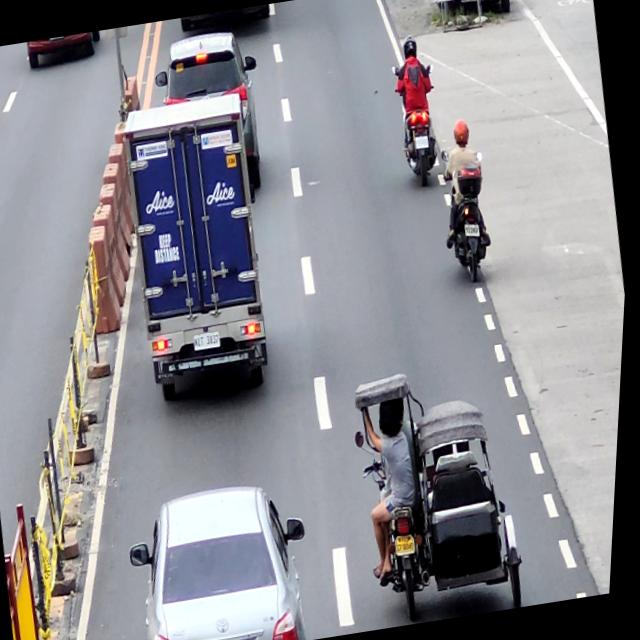Car: (125, 474, 330, 640), (146, 23, 279, 200)
License-Plate: (196, 332, 226, 352), (399, 534, 422, 556), (466, 222, 483, 238), (416, 134, 431, 150)
Motorcycle: (433, 142, 504, 286), (386, 54, 453, 192)
Tricycle: (342, 354, 543, 630)
Truck: (105, 91, 291, 403)
